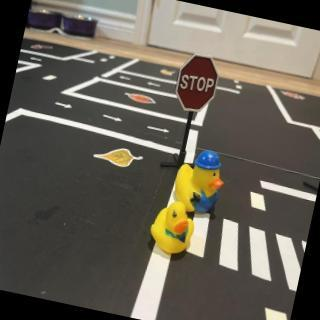duck_regular: (147, 199, 199, 258)
duck_specialty: (172, 146, 230, 216)
road_crosswalk: (179, 205, 310, 297)
road_oneway: (144, 124, 172, 139), (99, 113, 124, 125), (54, 100, 74, 113), (147, 80, 163, 91), (119, 74, 134, 84), (28, 57, 45, 64)
sign_stop: (172, 52, 223, 118)
